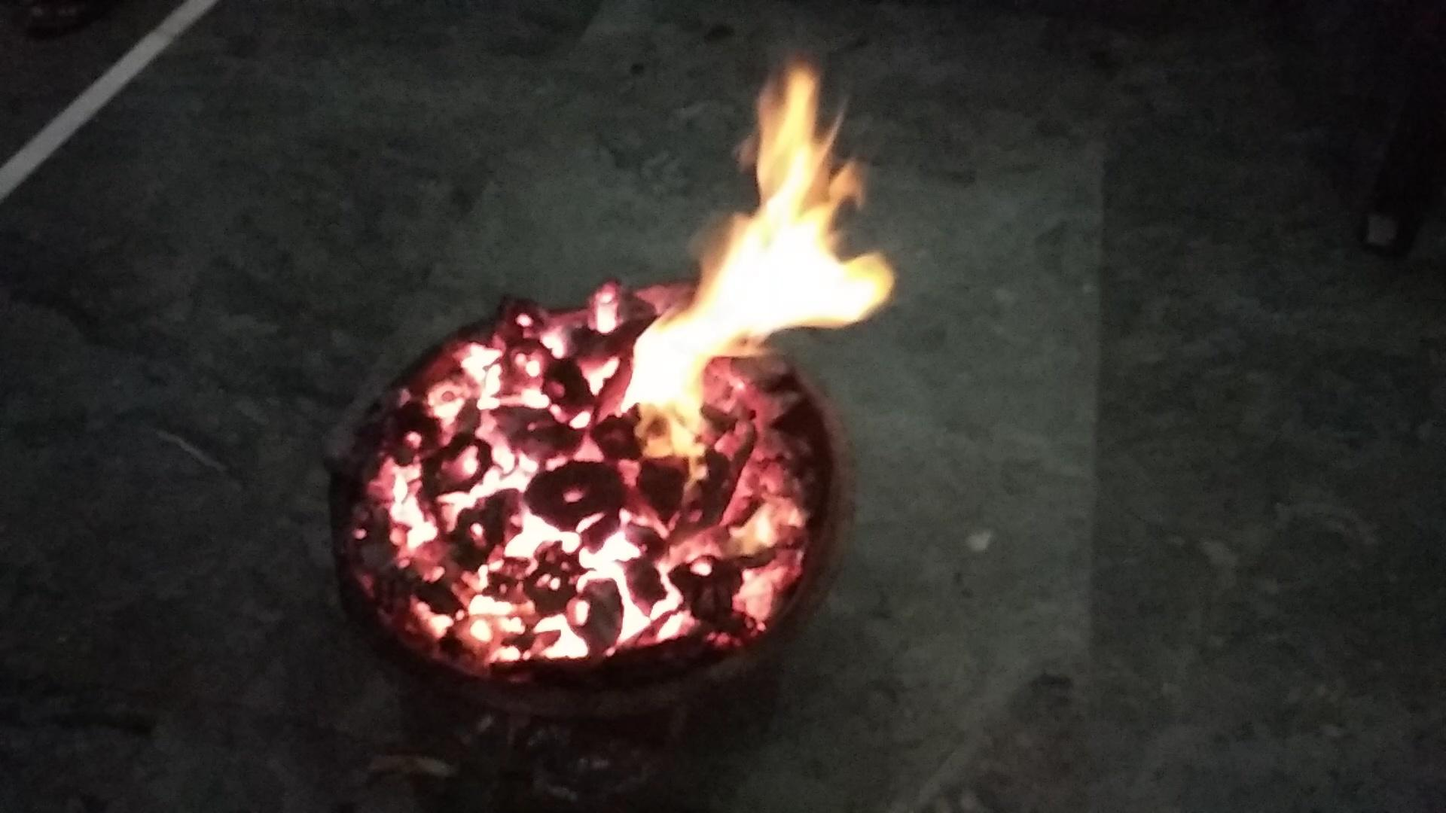fire: (554, 47, 941, 468)
